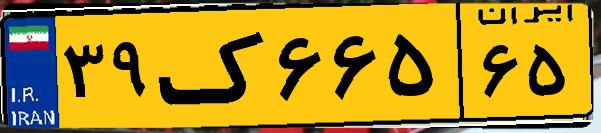3: (57, 26, 110, 100)
5: (385, 28, 445, 110), (525, 38, 570, 115)
6: (270, 28, 330, 110), (330, 28, 385, 110), (475, 38, 525, 113)
9: (110, 28, 158, 98)
ک: (158, 12, 270, 120)
